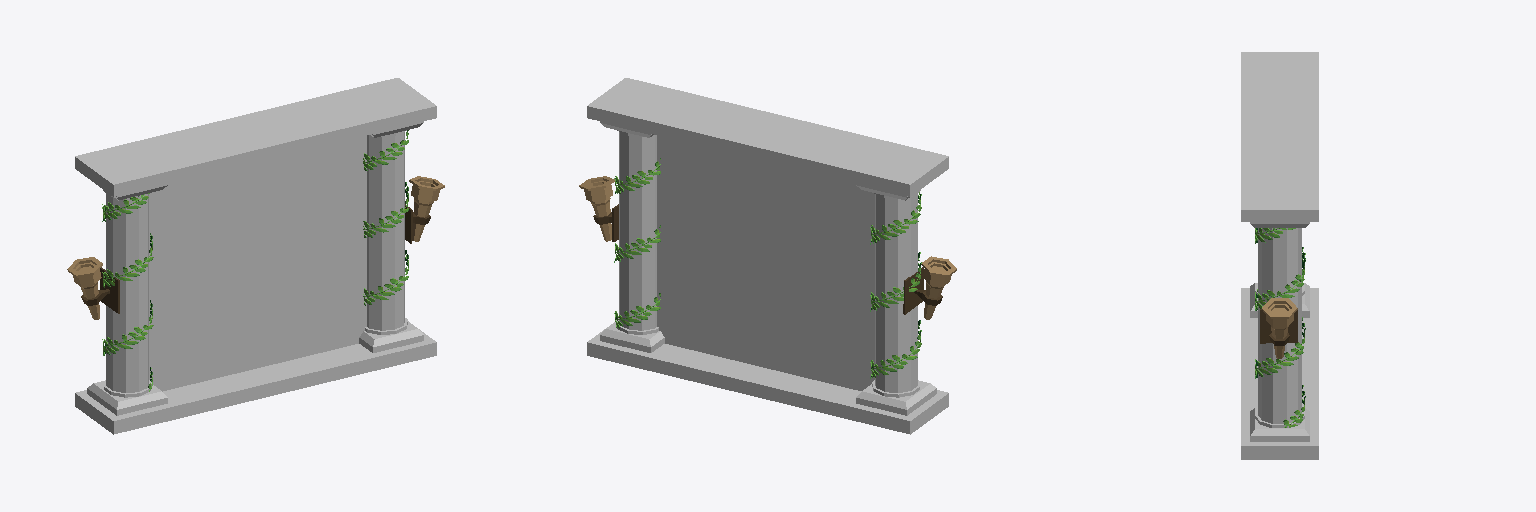
The picture shows the model from 3 angles: view 1: azimuth 30°, elevation 25°; view 2: azimuth 150°, elevation 25°; view 3: azimuth 270°, elevation 25°; orthographic projection.
Visible parts, largest first — view 1: Cube.280; view 2: Cube.280; view 3: Cube.280.
Part boxes in pixels (bbox=[...]): Cube.280: bbox=[67, 78, 444, 434]; Cube.280: bbox=[579, 78, 956, 434]; Cube.280: bbox=[1241, 52, 1318, 459].
Size of the model in its own units: 16.72 by 10.82 by 3.06.
Materials: 8 (2 with a texture image).